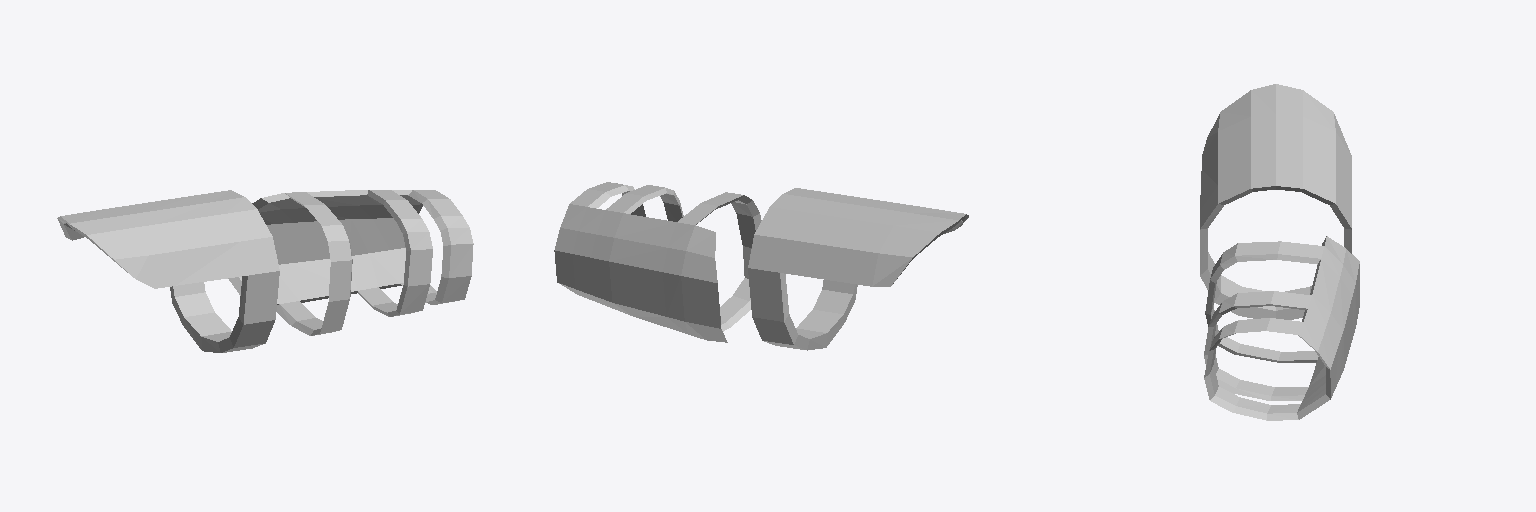
Rendered from XOFArmArmor_WorldItem.obj.
The picture shows the model from 3 angles: view 1: azimuth 30°, elevation 25°; view 2: azimuth 150°, elevation 25°; view 3: azimuth 270°, elevation 25°; orthographic projection.
Visible parts, largest first — view 1: Plane; view 2: Plane; view 3: Plane.
Boxes of the visible parts, x1=… form: Plane: x1=57, y1=190, x2=473, y2=352; Plane: x1=554, y1=182, x2=968, y2=350; Plane: x1=1200, y1=84, x2=1359, y2=420.
Bounding box in the file's own units: 0.0028 × 0.0011 × 0.001.